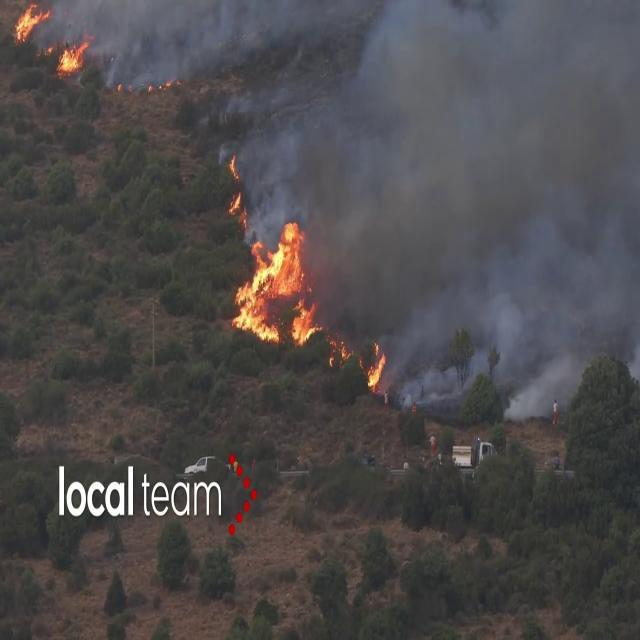Fire: (224, 214, 318, 348), (12, 0, 54, 46), (55, 30, 93, 78), (365, 340, 388, 394)
Smoke: (245, 0, 640, 401)
